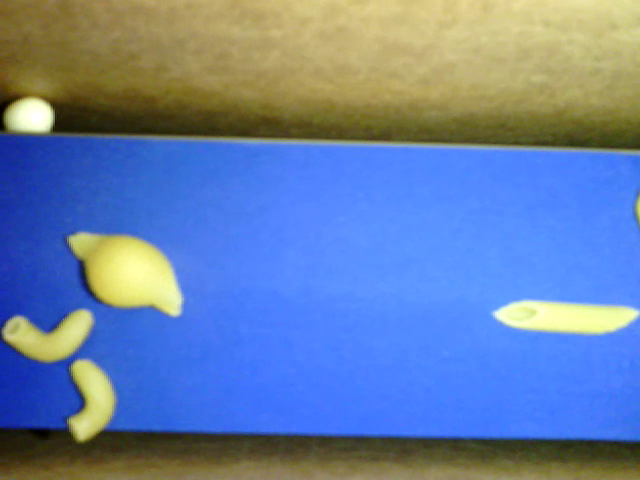elbow: (2, 307, 94, 362), (68, 357, 116, 442)
penne: (491, 300, 638, 336)
shell: (67, 230, 183, 317)
